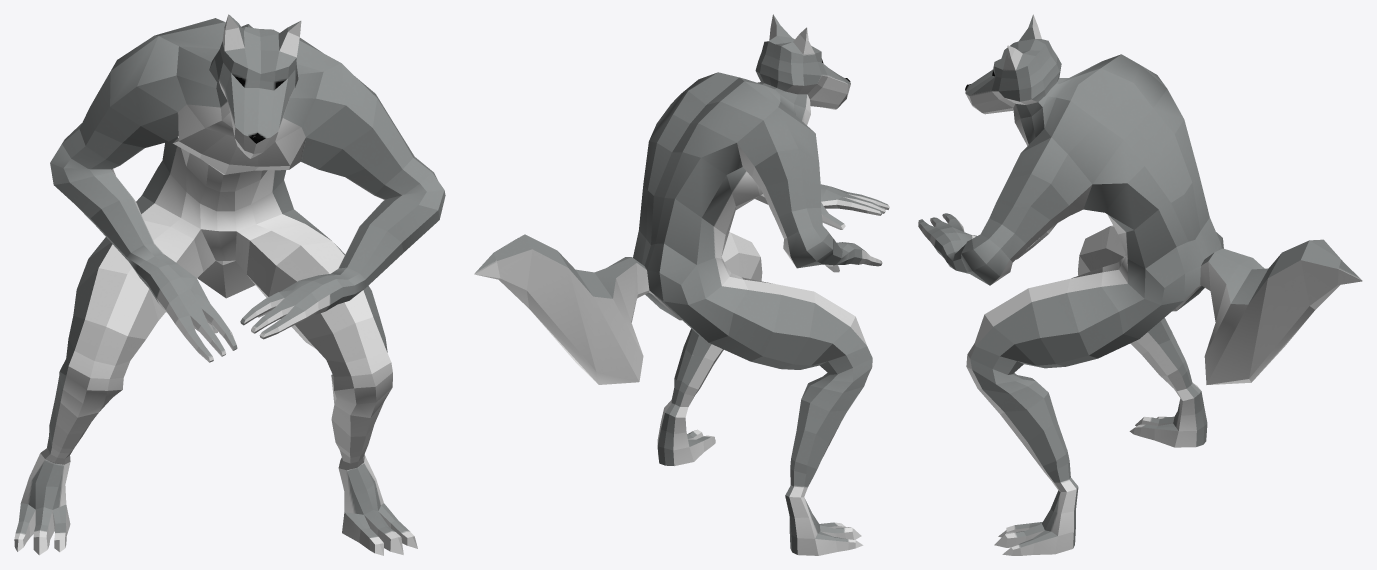
File: WolfAttack(10).obj
3 views of the same model, side by side, from view 1: azimuth 30°, elevation 25°; view 2: azimuth 150°, elevation 25°; view 3: azimuth 270°, elevation 25° (orthographic). The views are drawn at different scales.
Visible parts, largest first — view 1: Box001; view 2: Box001; view 3: Box001.
Boxes of the visible parts, bbox=[...] form: Box001: bbox=[14, 14, 445, 555]; Box001: bbox=[474, 14, 889, 555]; Box001: bbox=[918, 14, 1362, 555].
Bounding box in the file's own units: 82.33 × 125 × 107.
